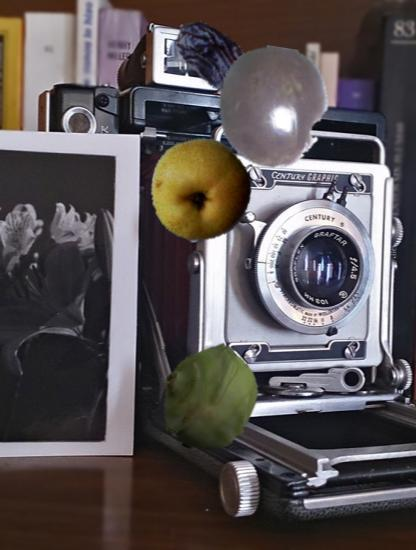Dates: (166, 8, 276, 118)
Kohlrabi: (153, 341, 265, 453)
Passion: (212, 47, 335, 170)
Pear: (147, 136, 254, 243)
